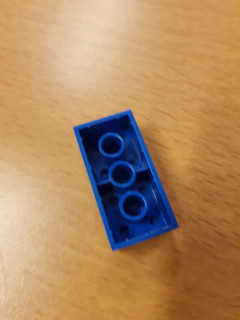2x4 blue: (71, 106, 182, 254)
